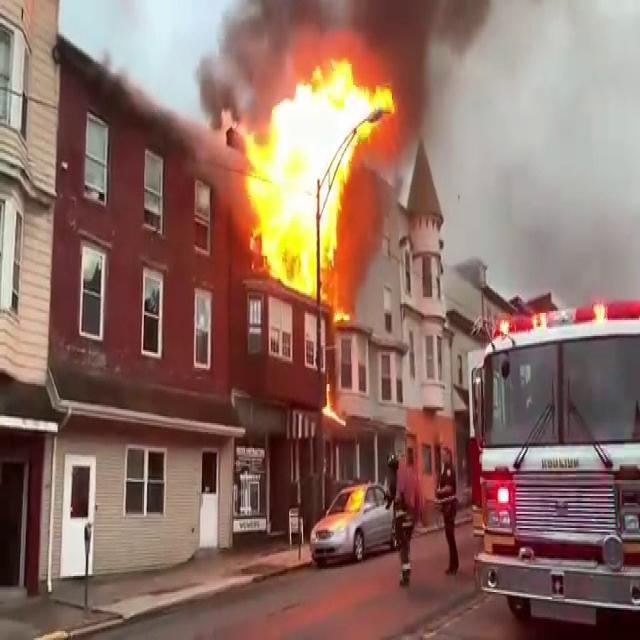Fire: (234, 48, 391, 302)
Smoke: (203, 0, 491, 116)
